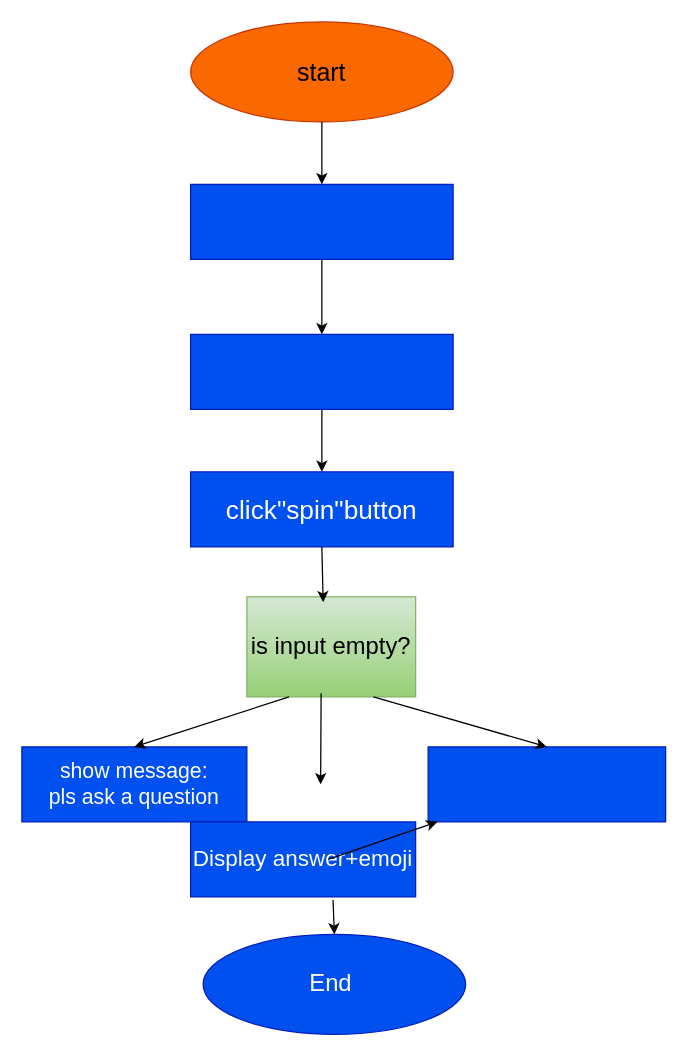
The diagram is 688 pixels wide and 1056 high, and some of its shapes have lost their labels. Here are the shapes that lost their labels. From the top down, the centre of each, then its label:
point 321,221: user opens the app
point 321,371: user enters a question
point 546,784: Generate Random answer
